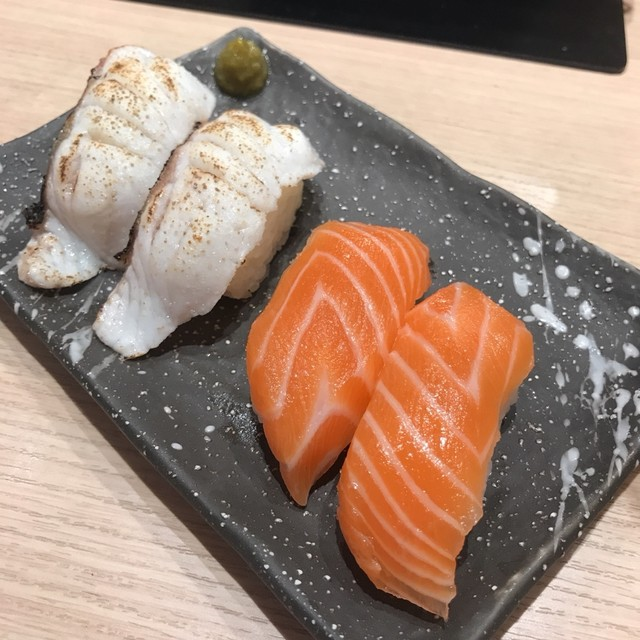salmon: (248, 220, 537, 619)
